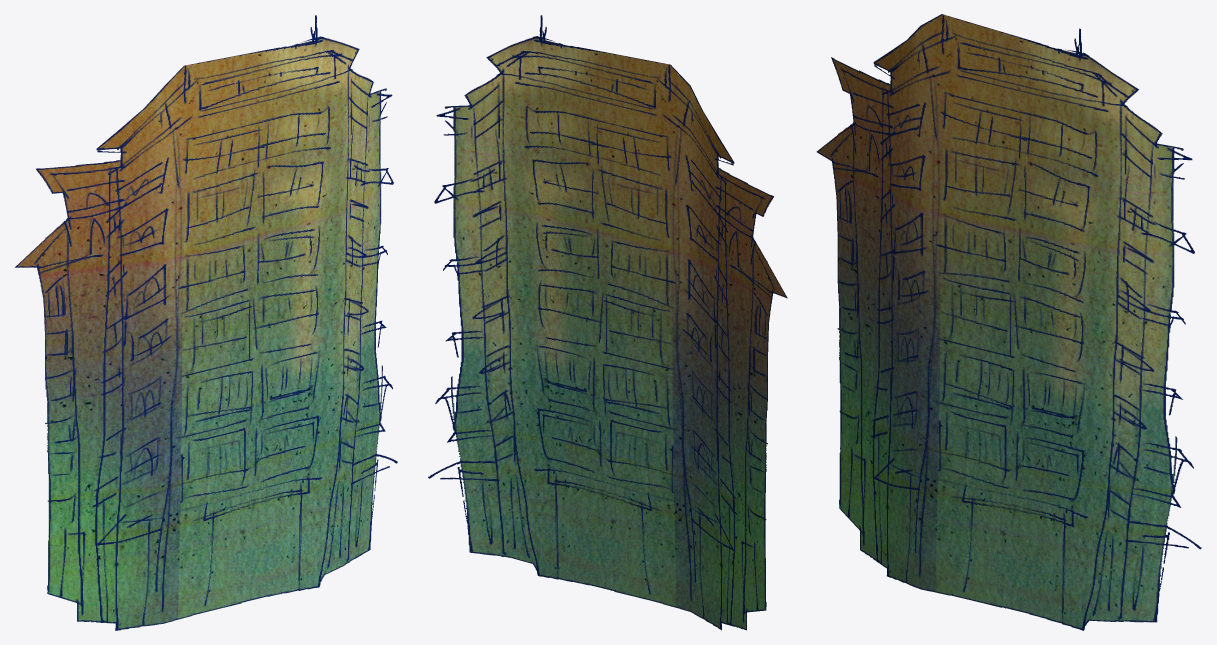
Rendered from 01_mid_bld_03.fbx.
The picture shows the model from 3 angles, left to right: view 1: azimuth 30°, elevation 25°; view 2: azimuth 150°, elevation 25°; view 3: azimuth 330°, elevation 25°; orthographic projection. The views are drawn at different scales.
Visible parts, largest first — view 1: 房子_中景_03; view 2: 房子_中景_03; view 3: 房子_中景_03.
Boxes of the visible parts, x1,y1,x2,y2 form: 房子_中景_03: [15, 15, 397, 630]; 房子_中景_03: [428, 15, 787, 630]; 房子_中景_03: [816, 14, 1201, 630].
Bounding box in the file's own units: 51.4 × 75.18 × 5.92.
Materials: 1 (1 with a texture image).
